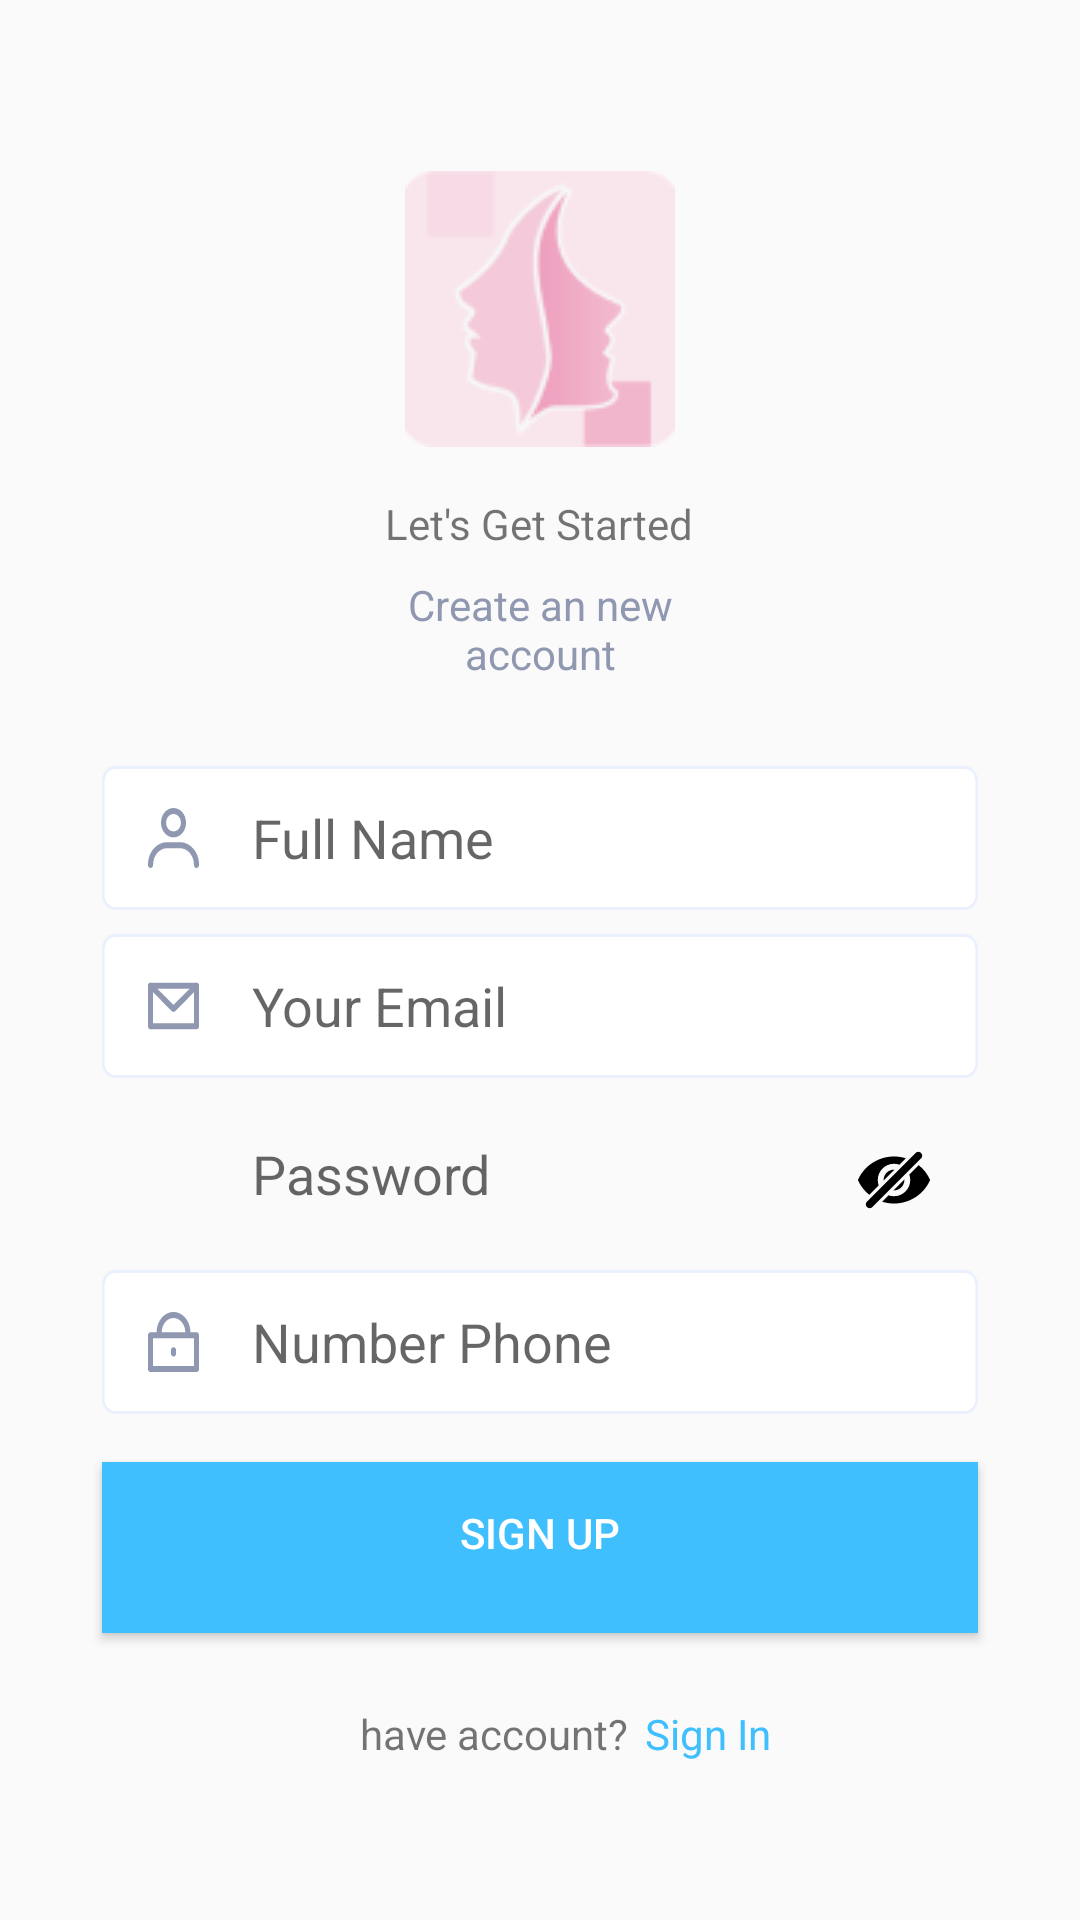

Icon bounding boxes for this 1080 × 1920 phone screenshot, format (x1, y1, x2, y2):
eye off: (858, 1151, 930, 1209)
